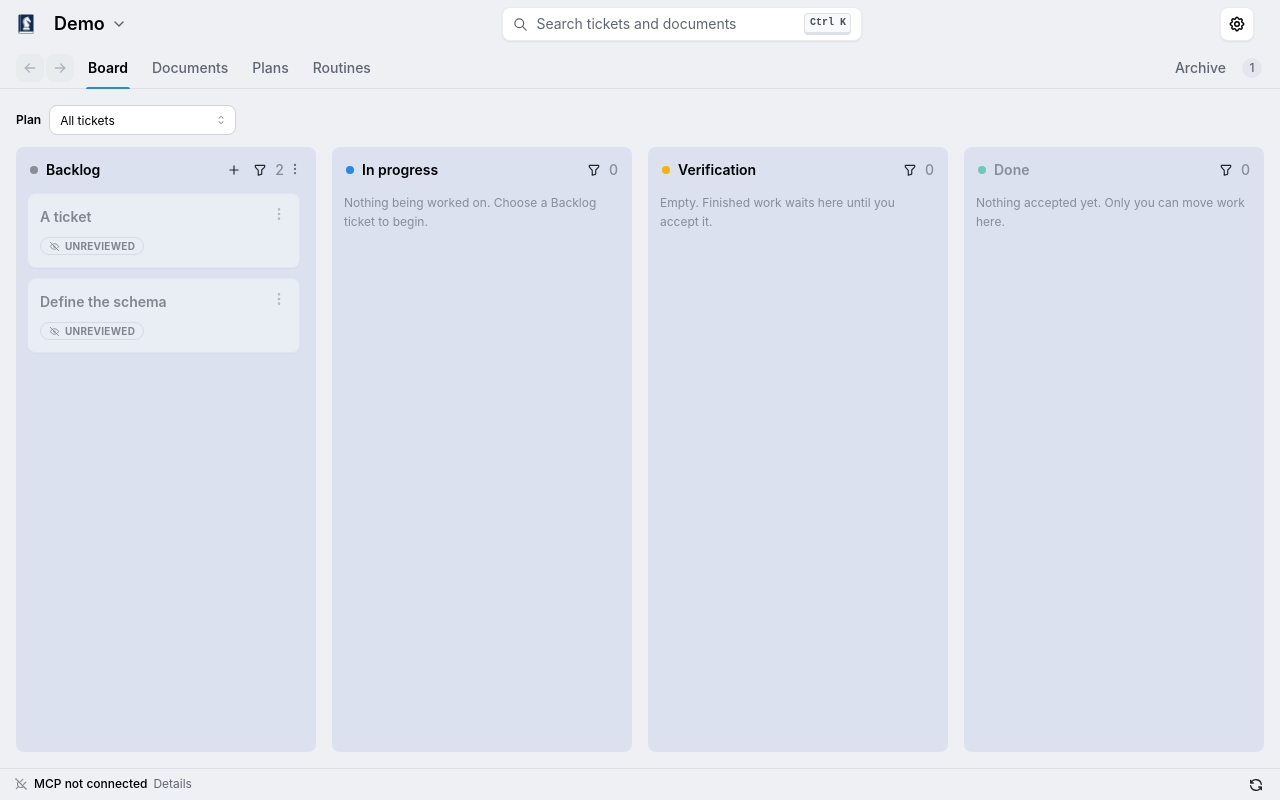
Test: choosing prerequisites and documents › writes nothing when saved without a change
Click the text "A ticket" at (66, 216), box [40,208,91,225]
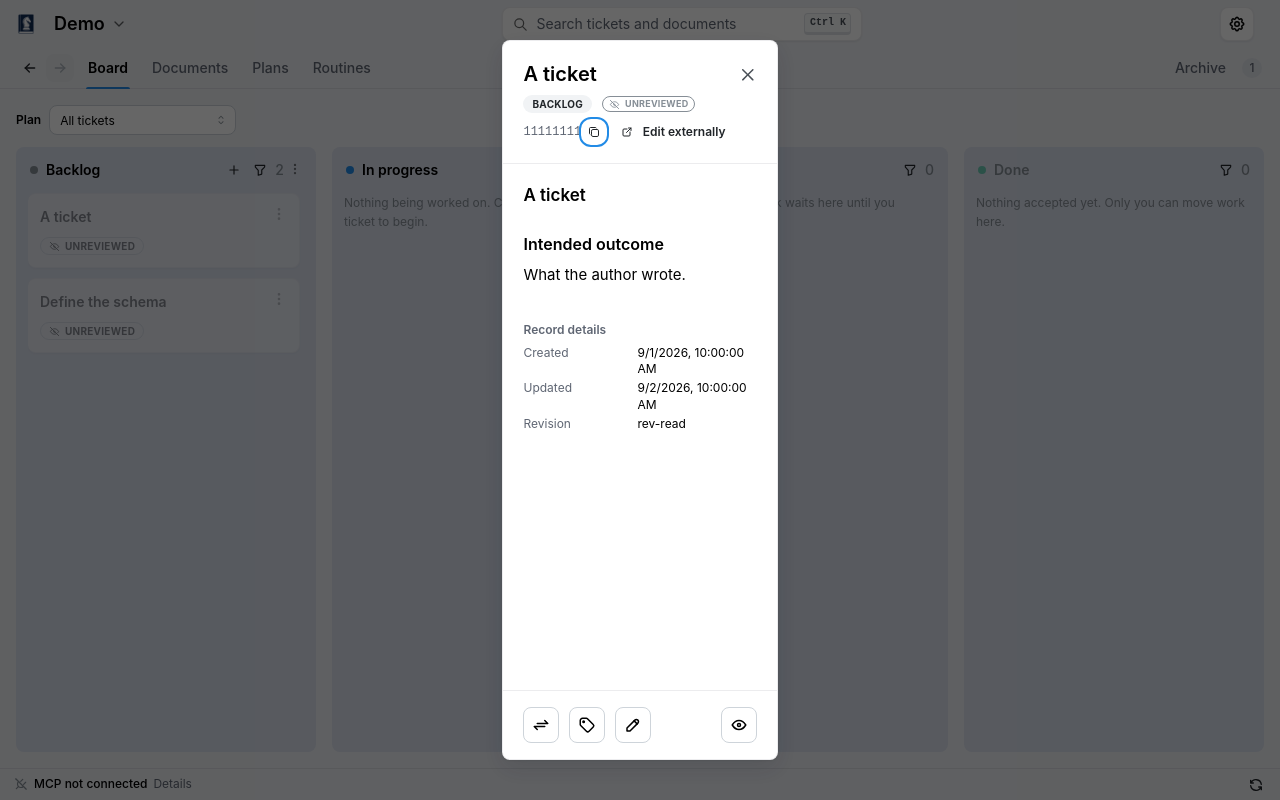
Click the button named "Edit ticket" at (634, 725), box [616,707,652,743]
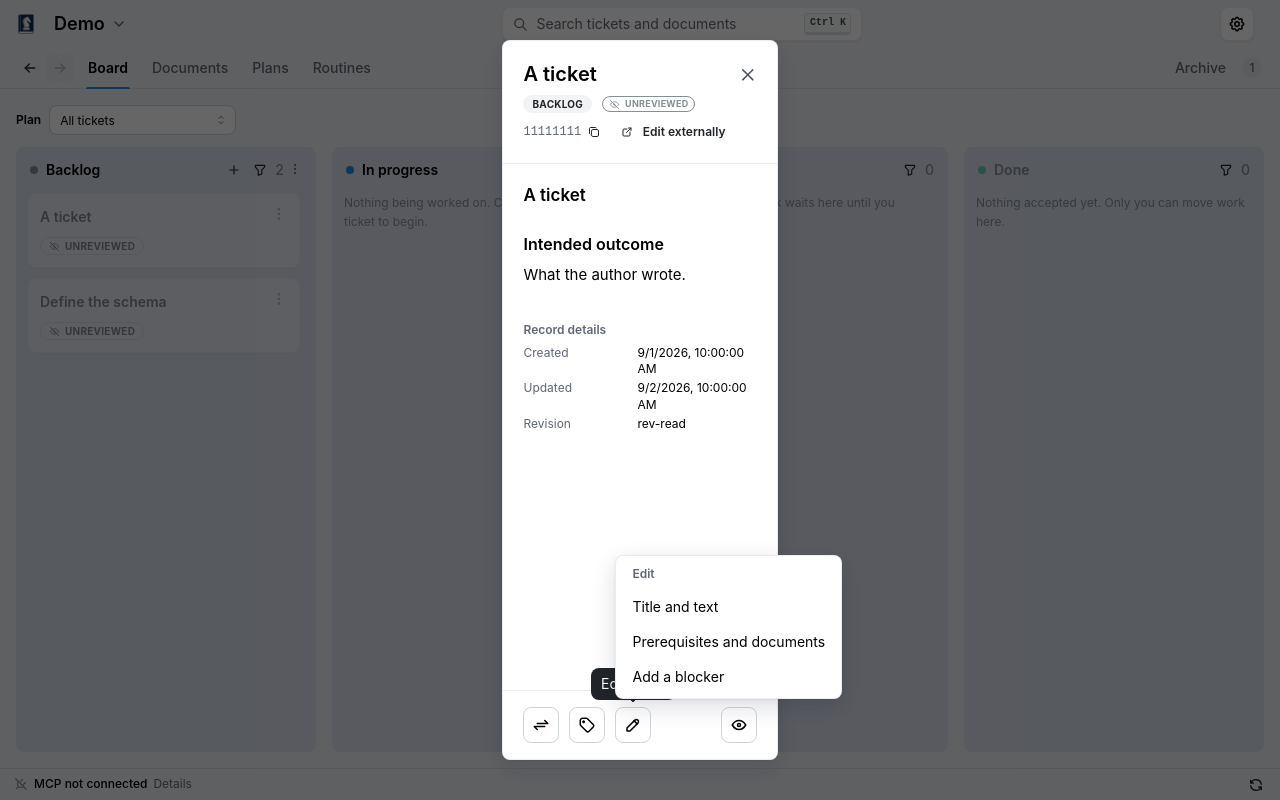
Click the menu item "Prerequisites and documents" at (729, 642), box [620,624,837,659]
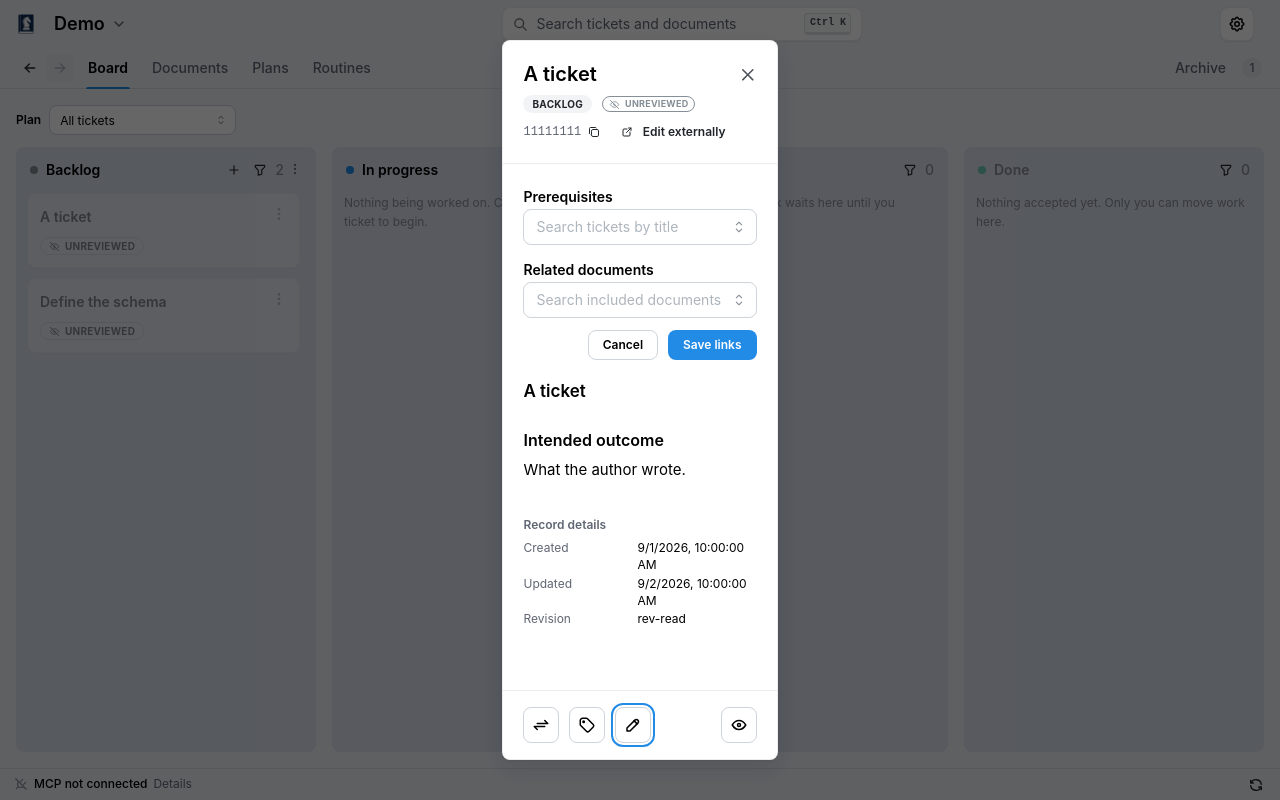
Click the button "Save links" at (712, 345), box [668,330,756,360]
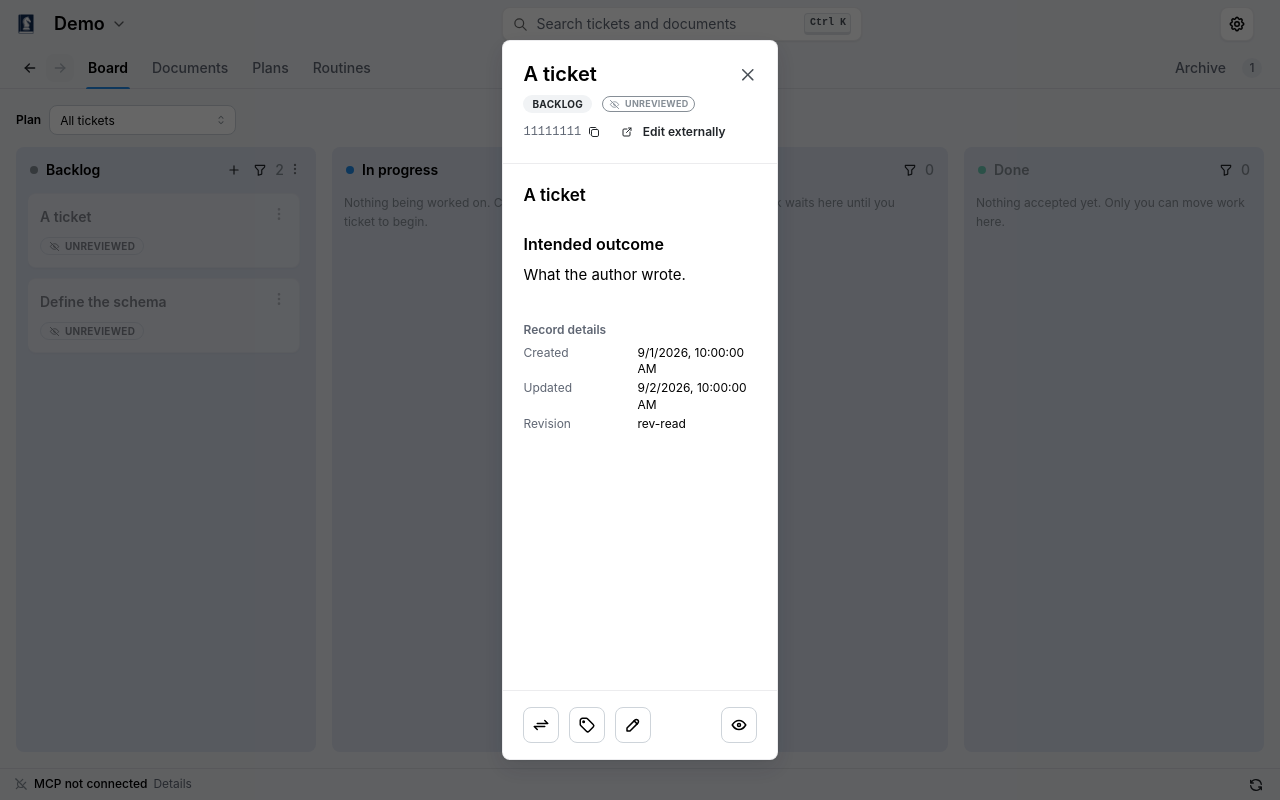
Now the button "Save links" is gone
